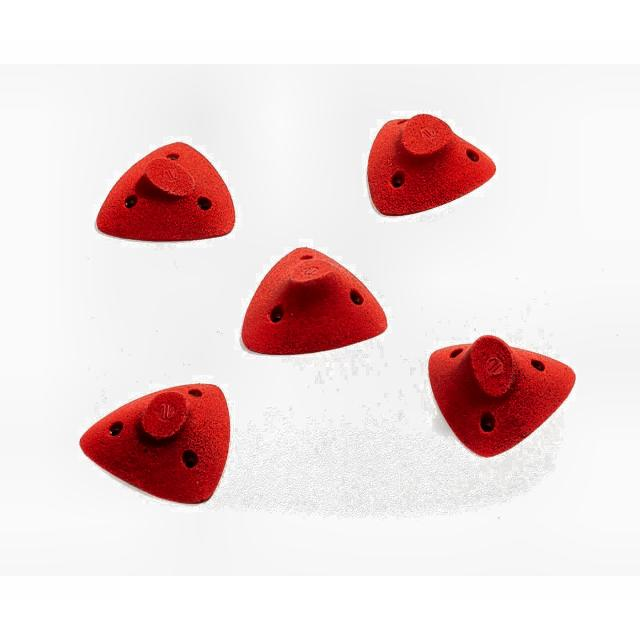Hold: (82, 388, 242, 505), (424, 340, 574, 455), (99, 133, 239, 247), (248, 249, 382, 353), (367, 115, 500, 219)
